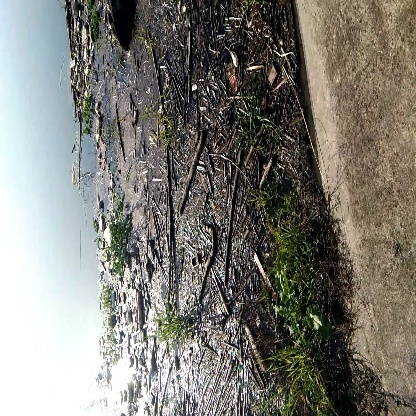branch: (170, 129, 212, 216)
